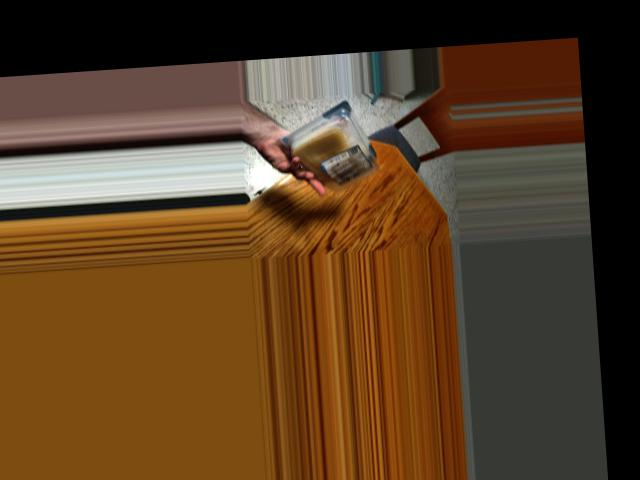cheese: (283, 109, 385, 192)
